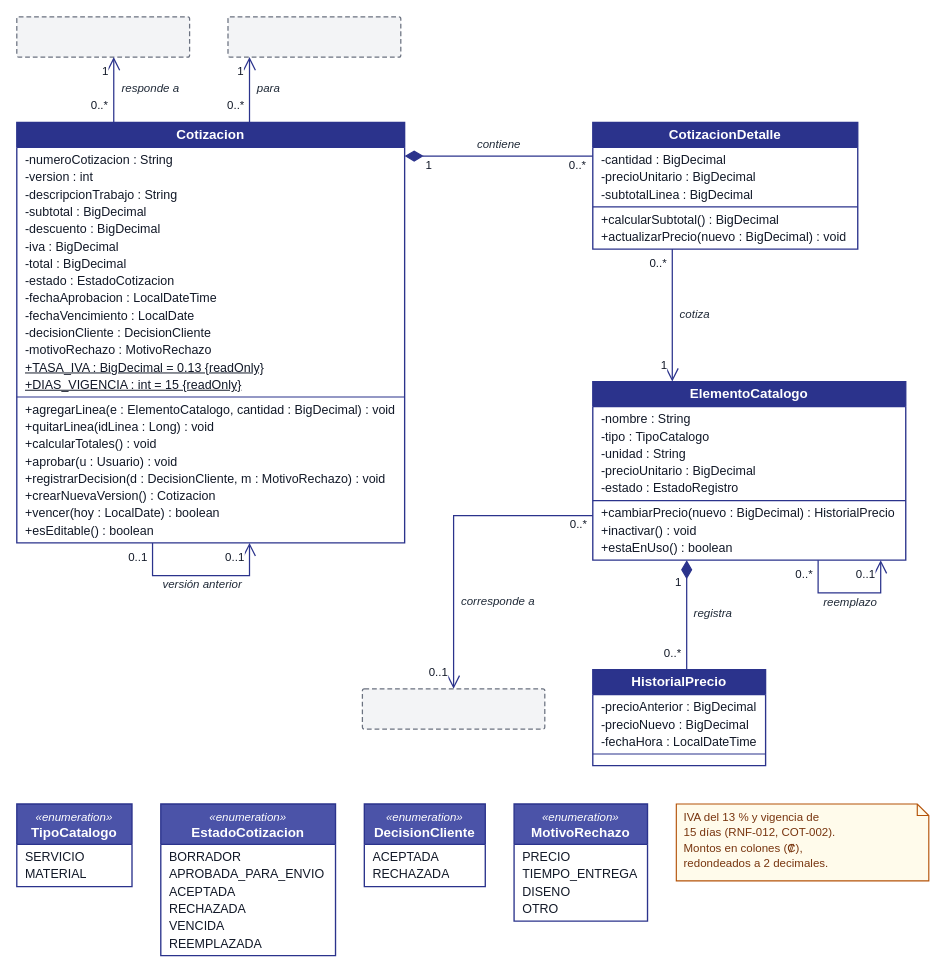
This 947x977 diagram has some shape labels left out. Each missing label, with the centre of its shape:
"«ver diagrama de clientes» Cliente" belongs at (314,36).
"«ver diagrama de clientes» Solicitud" belongs at (103,36).
"«ver diagrama de inventario» Material" belongs at (453,708).
